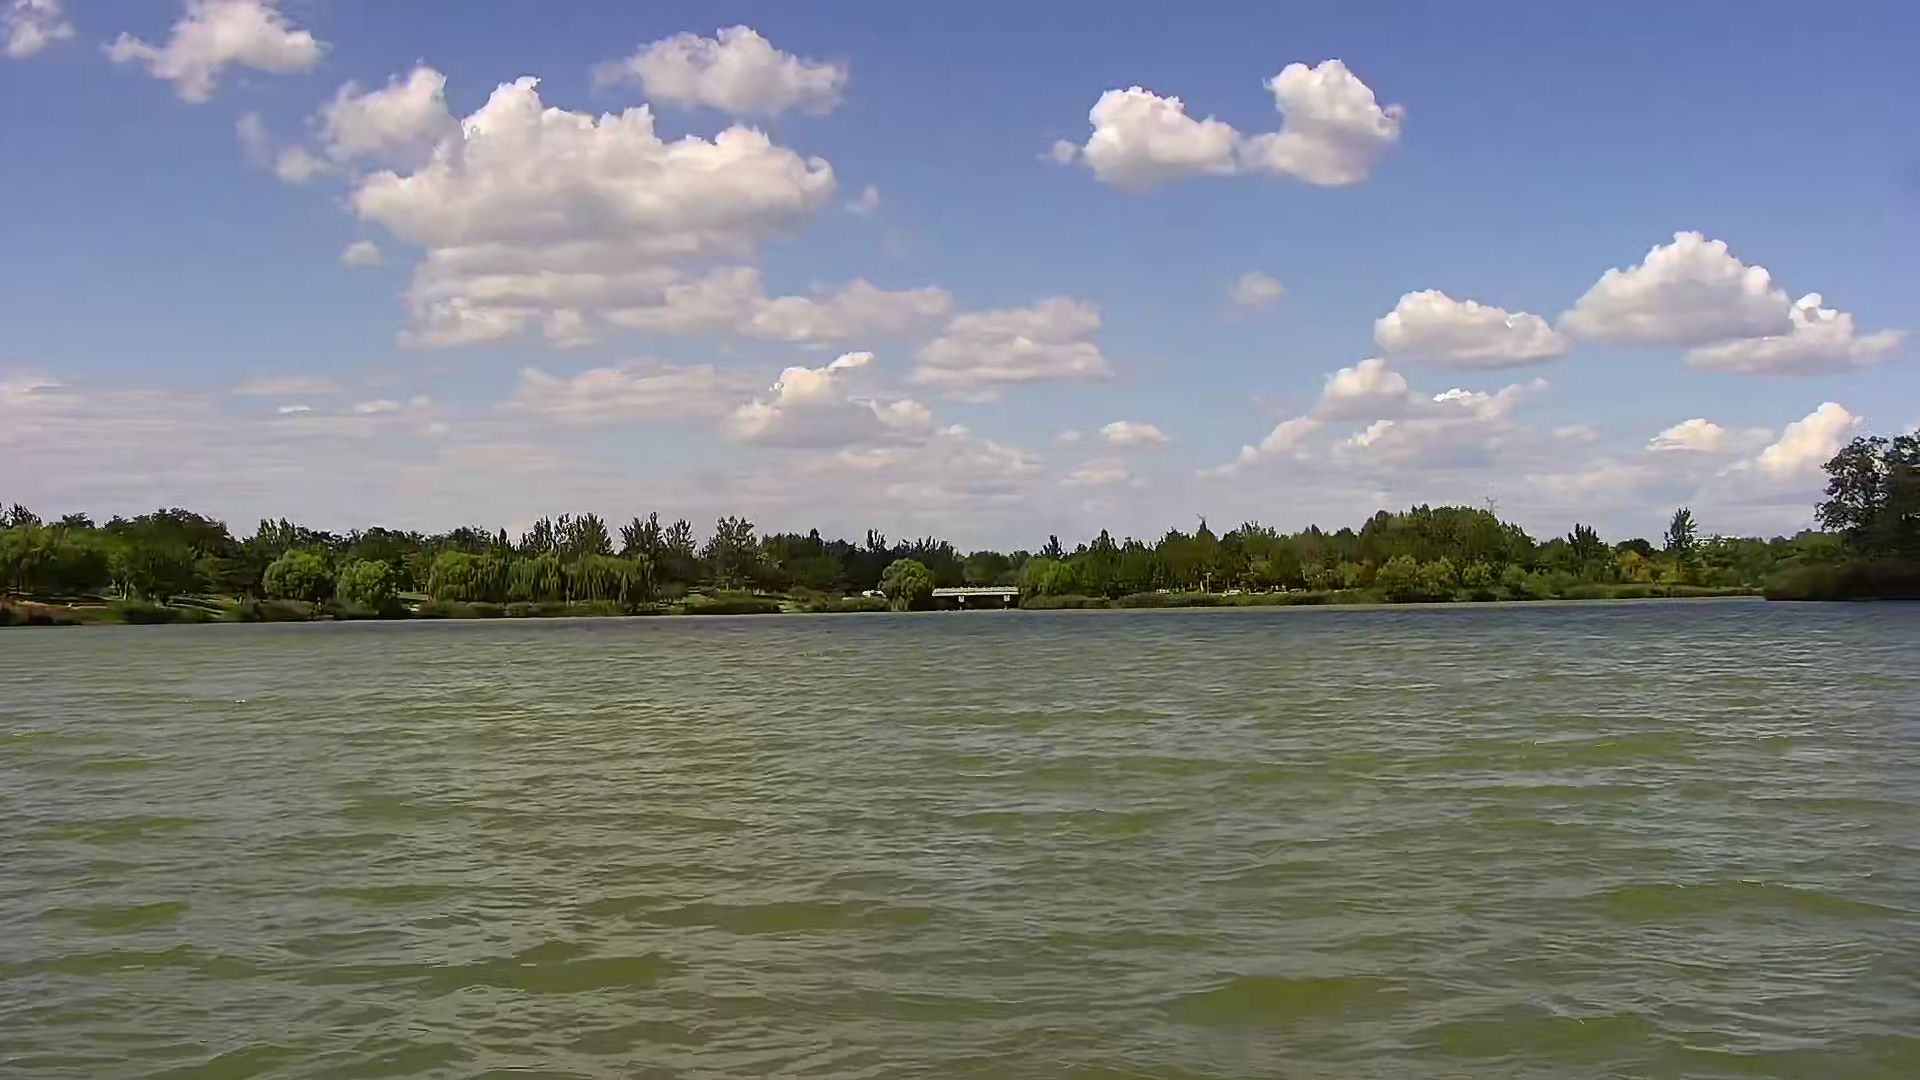bridge: (926, 584, 1025, 616)
